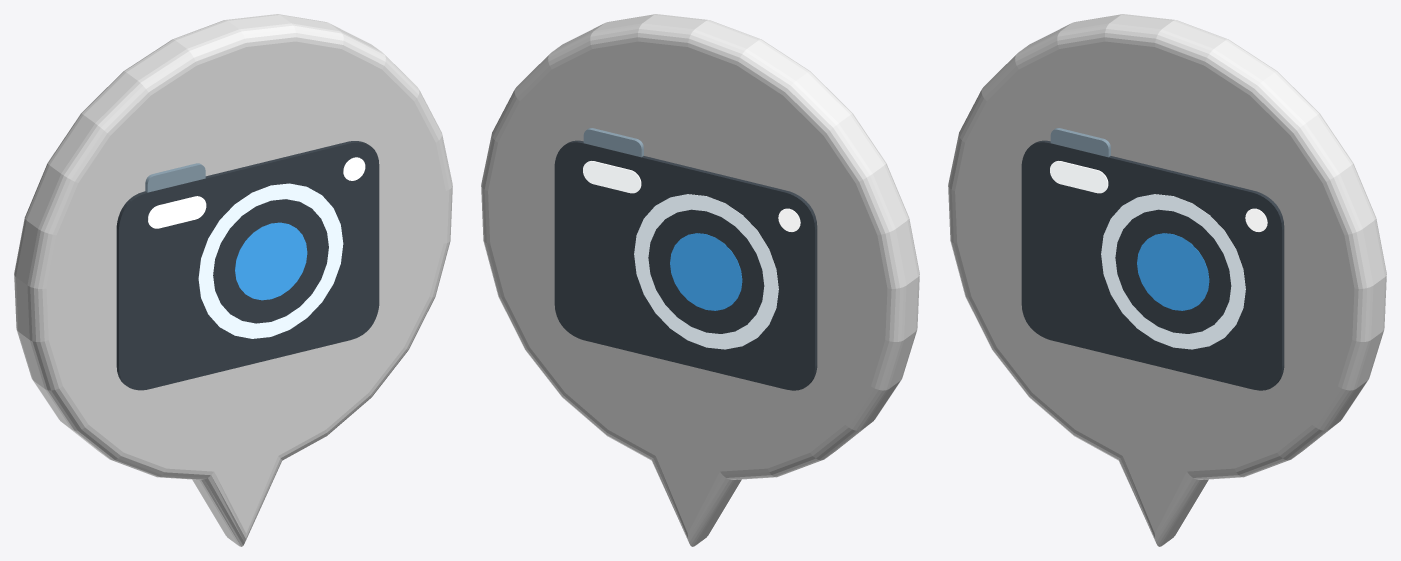
File: camera.glb
3 views of the same model, side by side, from view 1: azimuth 30°, elevation 25°; view 2: azimuth 150°, elevation 25°; view 3: azimuth 330°, elevation 25° (orthographic).
Visible parts, largest first — view 1: EmotionBubble; view 2: EmotionBubble; view 3: EmotionBubble.
Part boxes in pixels (x1=…): EmotionBubble: x1=14, y1=14, x2=452, y2=546; EmotionBubble: x1=481, y1=14, x2=919, y2=546; EmotionBubble: x1=948, y1=14, x2=1386, y2=546.
Bounding box in the file's own units: 5.29 × 6.16 × 0.706.
